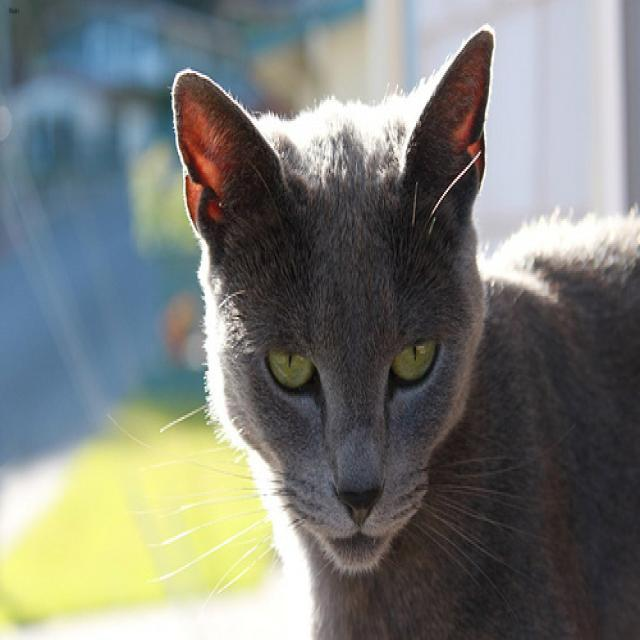Russian_Blue: (164, 24, 501, 580)
